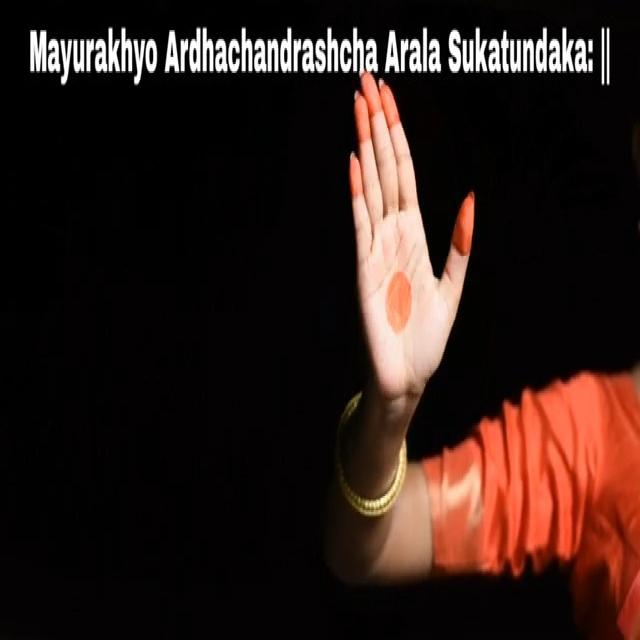Ardhachandra: (326, 77, 484, 416)
bangle: (323, 432, 419, 523)
text: (21, 21, 616, 94)
